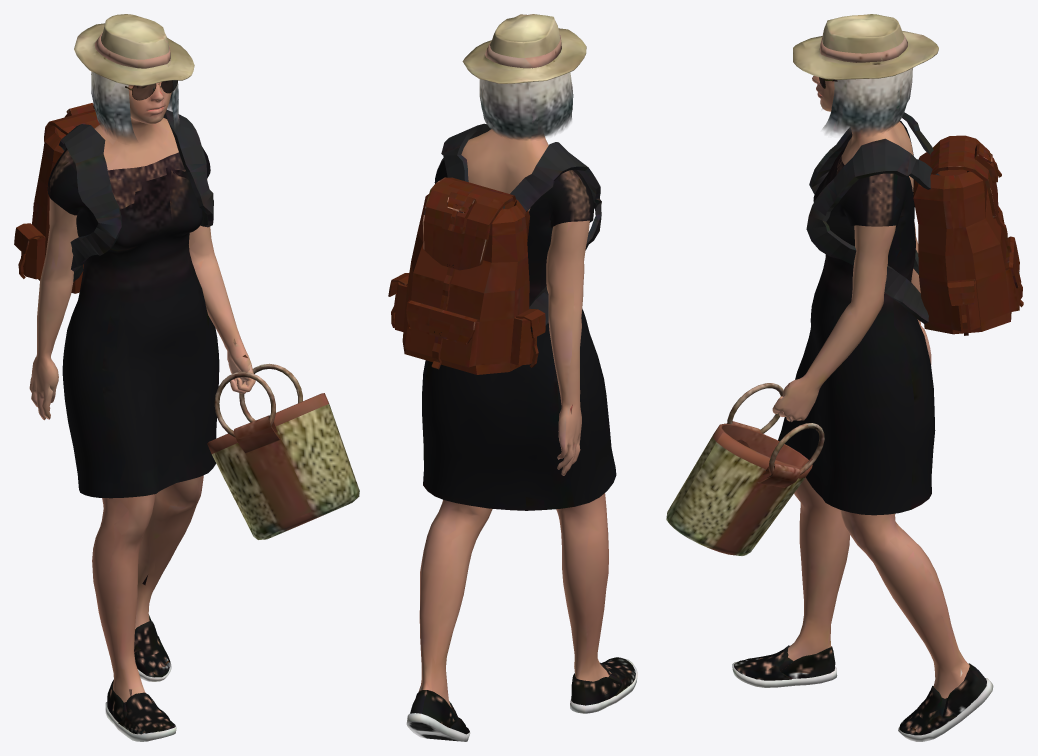
3 renders of one model, left to right at view 1: azimuth 30°, elevation 25°; view 2: azimuth 150°, elevation 25°; view 3: azimuth 270°, elevation 25°, orthographic. The views are drawn at different scales.
Parts seen in each view (by area): view 1: p03142; view 2: p03142; view 3: p03142.
Boxes of the visible parts, <box> form: p03142: <box>14,14,359,741</box>; p03142: <box>388,14,637,741</box>; p03142: <box>666,14,1023,741</box>.
Size of the model in its own units: 0.5438 by 1.69 by 0.7914.
Materials: 1 (1 with a texture image).
